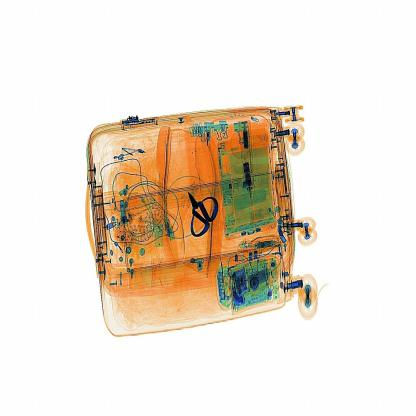gun: (183, 172, 227, 251)
